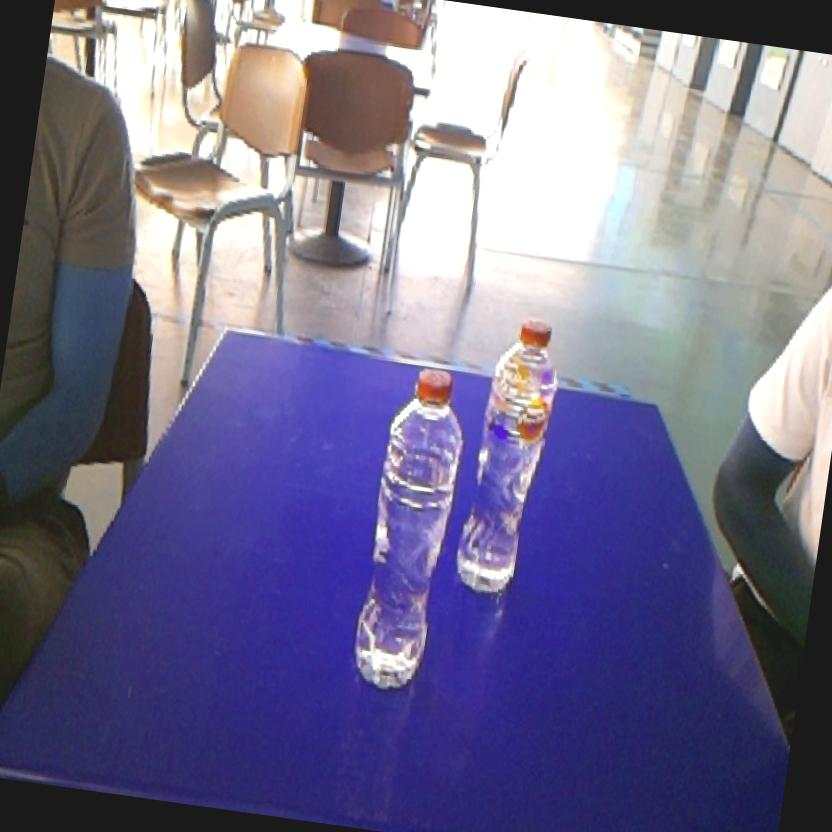good: (448, 302, 575, 610)
no_label: (340, 354, 476, 701)
